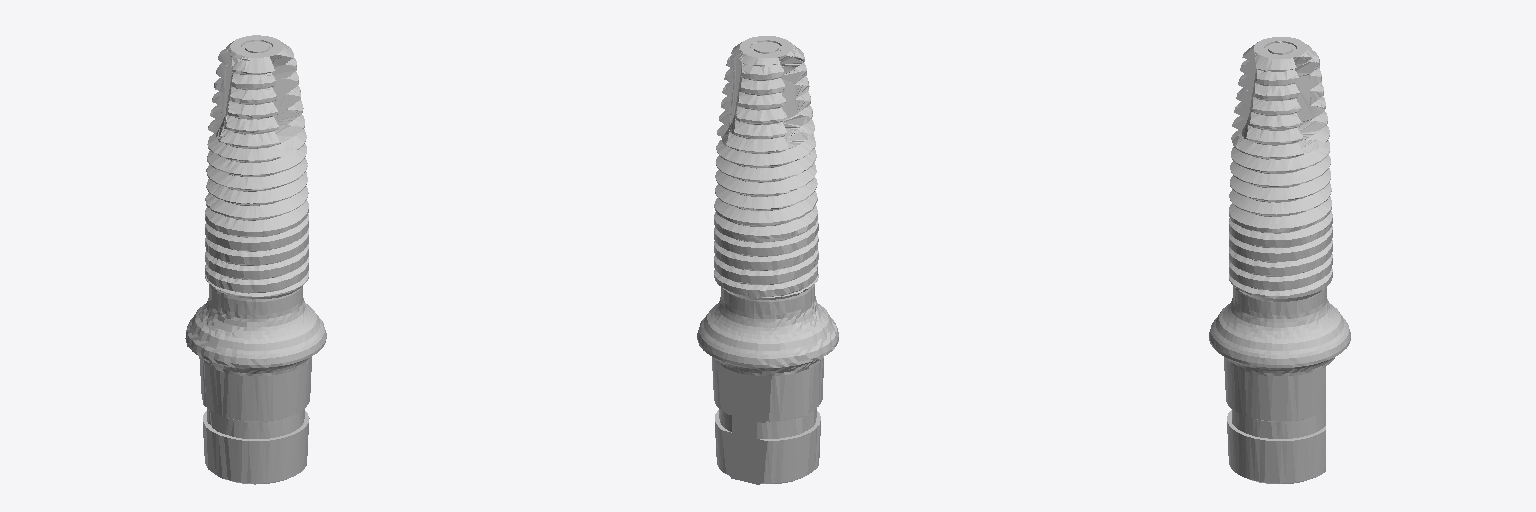
Rendered from screw_up.obj.
The picture shows the model from 3 angles: view 1: azimuth 30°, elevation 25°; view 2: azimuth 150°, elevation 25°; view 3: azimuth 270°, elevation 25°; orthographic projection.
Visible parts, largest first — view 1: screw_up; view 2: screw_up; view 3: screw_up.
Boxes of the visible parts, box(x1,y1,x2,y2) form: screw_up: box(185, 35, 326, 484); screw_up: box(697, 36, 838, 484); screw_up: box(1209, 37, 1350, 483).
Size of the model in its own units: 0.0054 by 0.0177 by 0.0054.